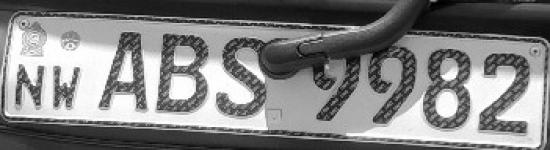2: (475, 47, 532, 143)
8: (421, 40, 476, 136)
9: (310, 29, 364, 124), (367, 42, 419, 130)
A: (94, 26, 152, 116)
B: (153, 28, 213, 120)
N: (13, 59, 47, 114)
S: (212, 26, 274, 122)
W: (48, 59, 83, 114)
